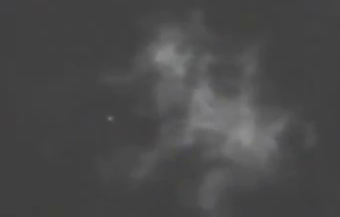Target: (109, 116, 112, 119)
